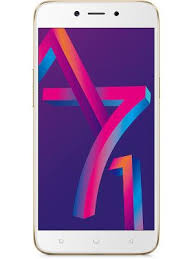oppo: (30, 1, 161, 255)
